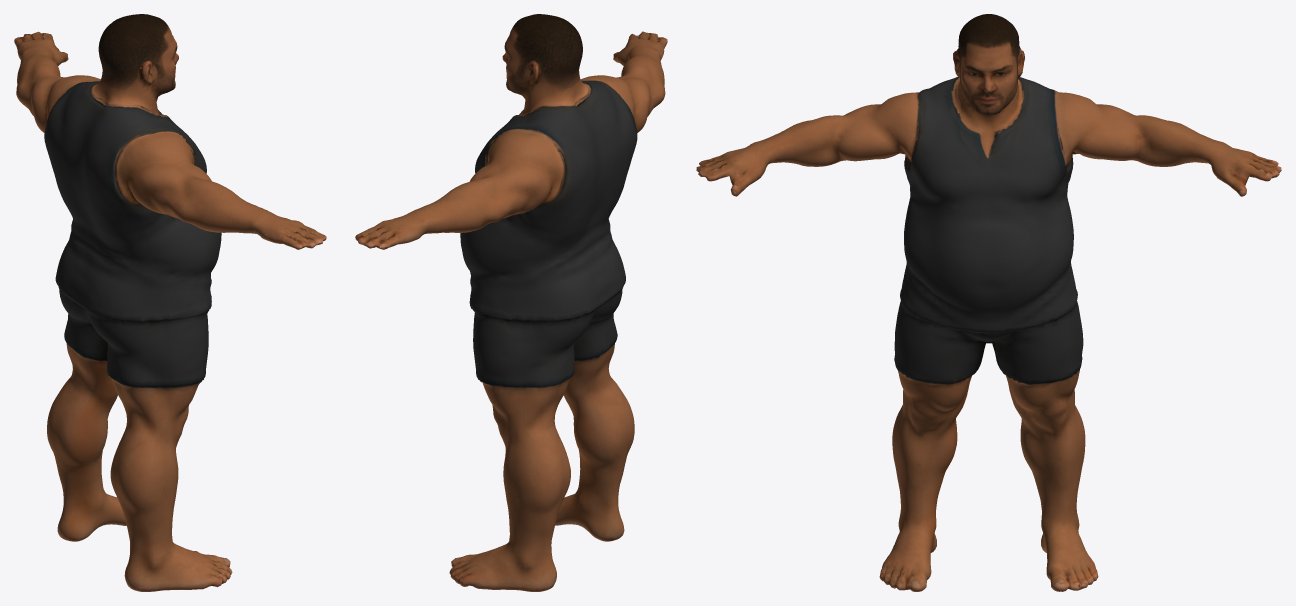
The model's file is sd-body-human-masculine-heavy-local-quad-bake-pilot-v001.glb.
The picture shows the model from 3 angles, left to right: view 1: azimuth 30°, elevation 25°; view 2: azimuth 150°, elevation 25°; view 3: azimuth 270°, elevation 25°; orthographic projection.
Parts seen in each view (by area): view 1: SD_HumanoidUnifiedQuadCage; view 2: SD_HumanoidUnifiedQuadCage; view 3: SD_HumanoidUnifiedQuadCage.
Part boxes in pixels (x1,y1,x2,y2): SD_HumanoidUnifiedQuadCage: (14,14,326,591); SD_HumanoidUnifiedQuadCage: (355,14,667,591); SD_HumanoidUnifiedQuadCage: (696,14,1281,591).
Size of the model in its own units: 0.4739 by 1.82 by 1.76.
1 material, 1 textured.
